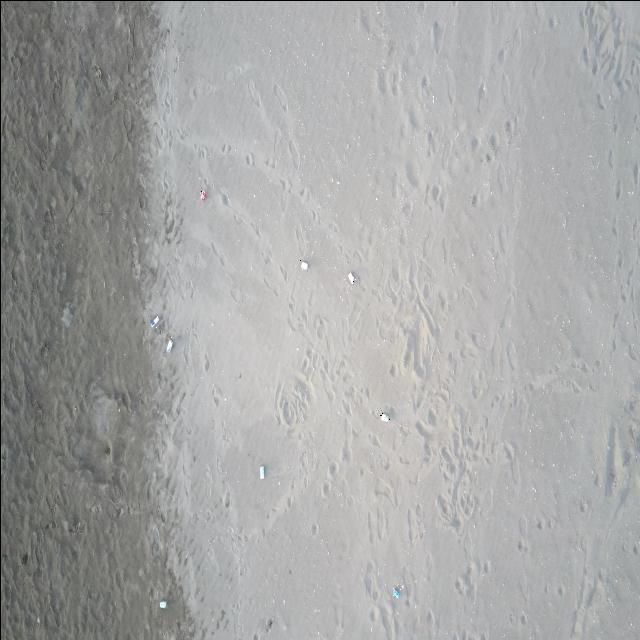Garbage: (62, 303, 74, 327), (392, 584, 403, 597), (148, 315, 159, 327), (164, 337, 172, 352), (347, 272, 355, 283), (380, 412, 390, 420), (200, 188, 206, 200), (300, 260, 307, 270), (259, 466, 264, 479), (159, 600, 166, 607)
